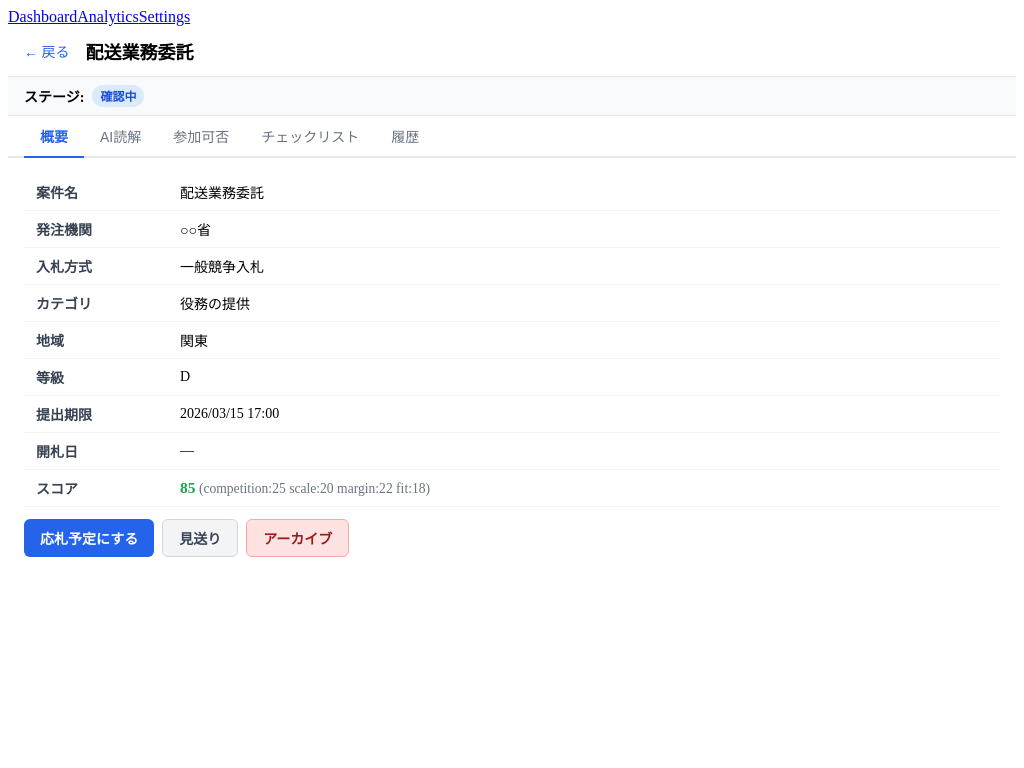
Test: CaseDetail — Tab switching › switches to reading tab and shows empty state
Click the button with test id "tab-reading": (121, 137) [84, 116, 157, 158]
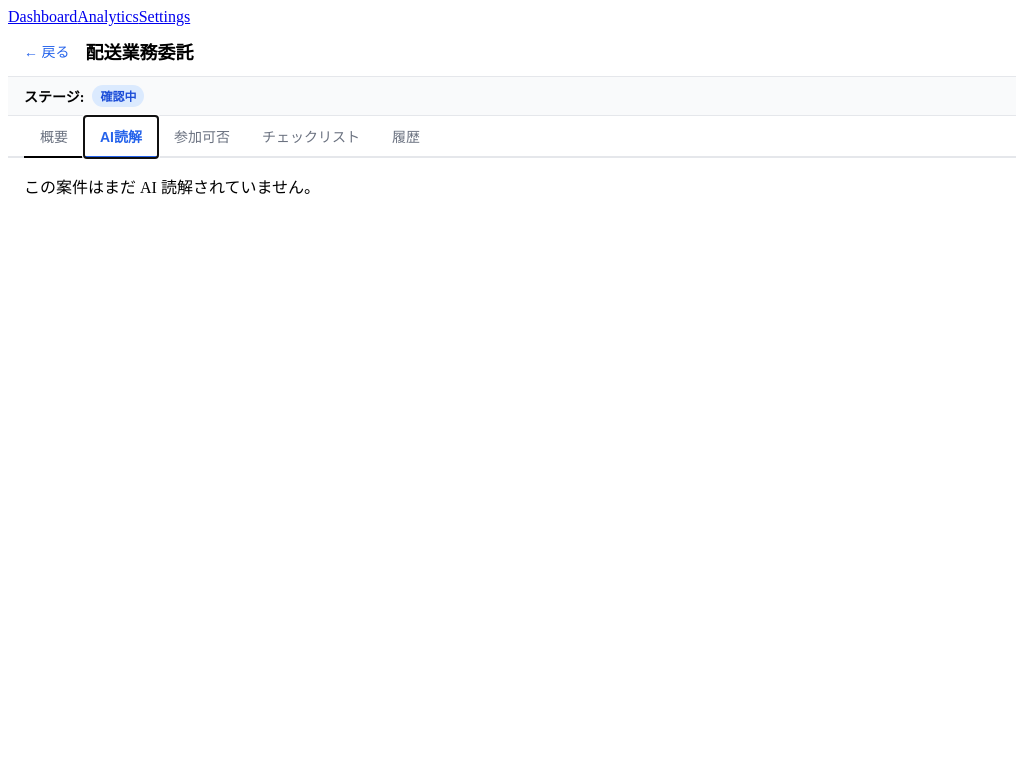
expect the text with test id "tab-content-reading" shows "AI 読解されていません": met, box [24, 179, 320, 196]
